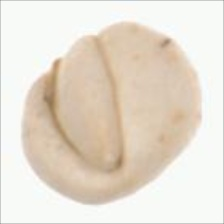L5: (46, 33, 130, 175)
L6: (19, 20, 205, 208)
